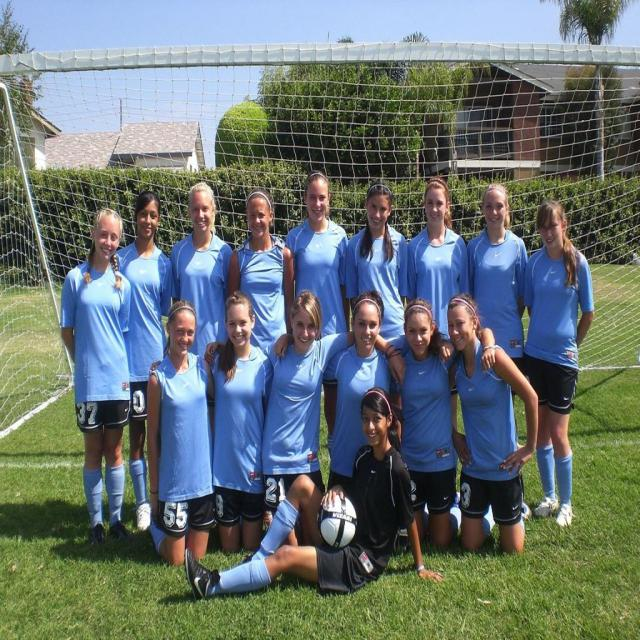Face: (418, 178, 458, 235), (221, 296, 263, 347), (89, 206, 124, 266), (401, 305, 439, 358), (361, 394, 397, 449), (188, 182, 220, 242), (303, 175, 335, 233), (446, 302, 480, 355), (293, 292, 321, 356), (480, 186, 513, 238), (352, 296, 382, 353), (166, 304, 197, 358), (362, 183, 393, 235), (535, 218, 571, 256), (249, 185, 272, 242), (136, 197, 159, 248)
